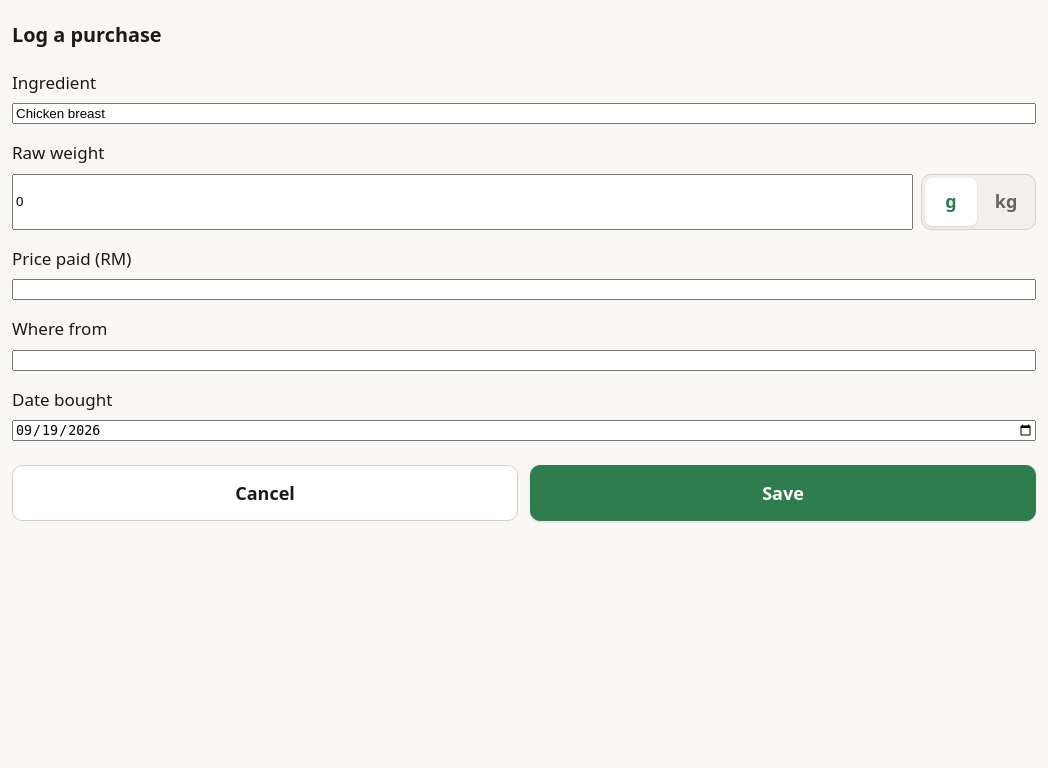
Test: AddBatchForm creating › reports a failed write instead of silently doing nothing
The width and height of the screenshot is (1048, 768).
Replace the text in the number field labelled "Raw weight" with "500" at (462, 202), box [12,174,913,230]
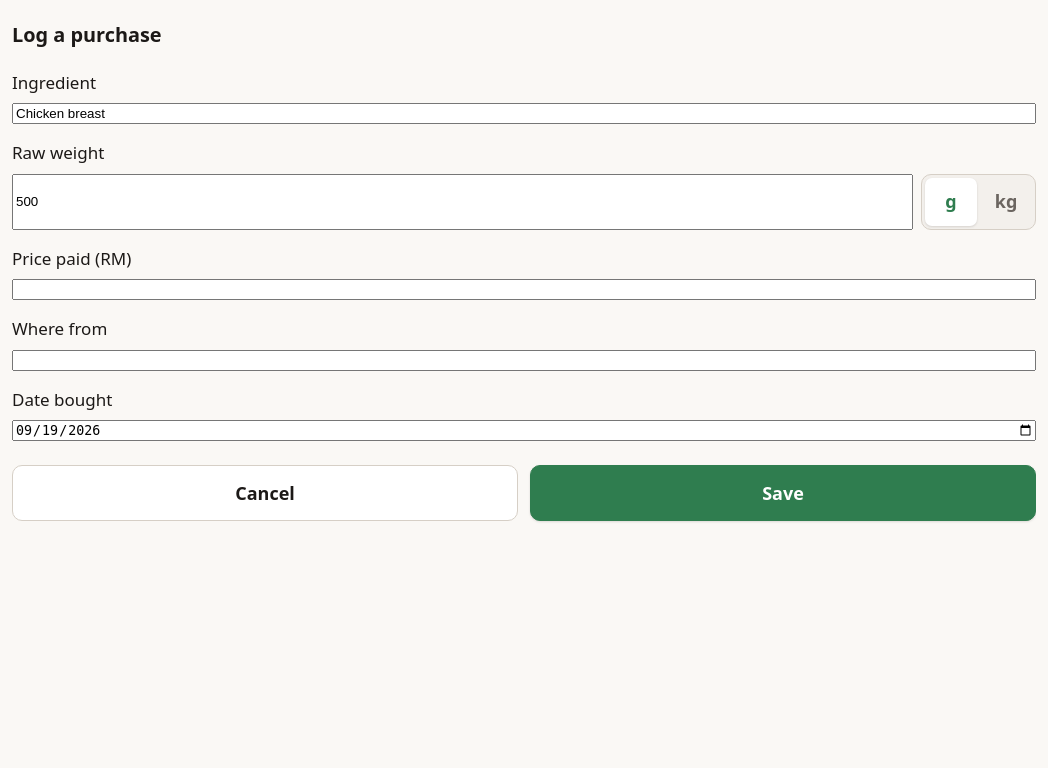
Click the button "Save" at (783, 493), box [530,465,1036,521]
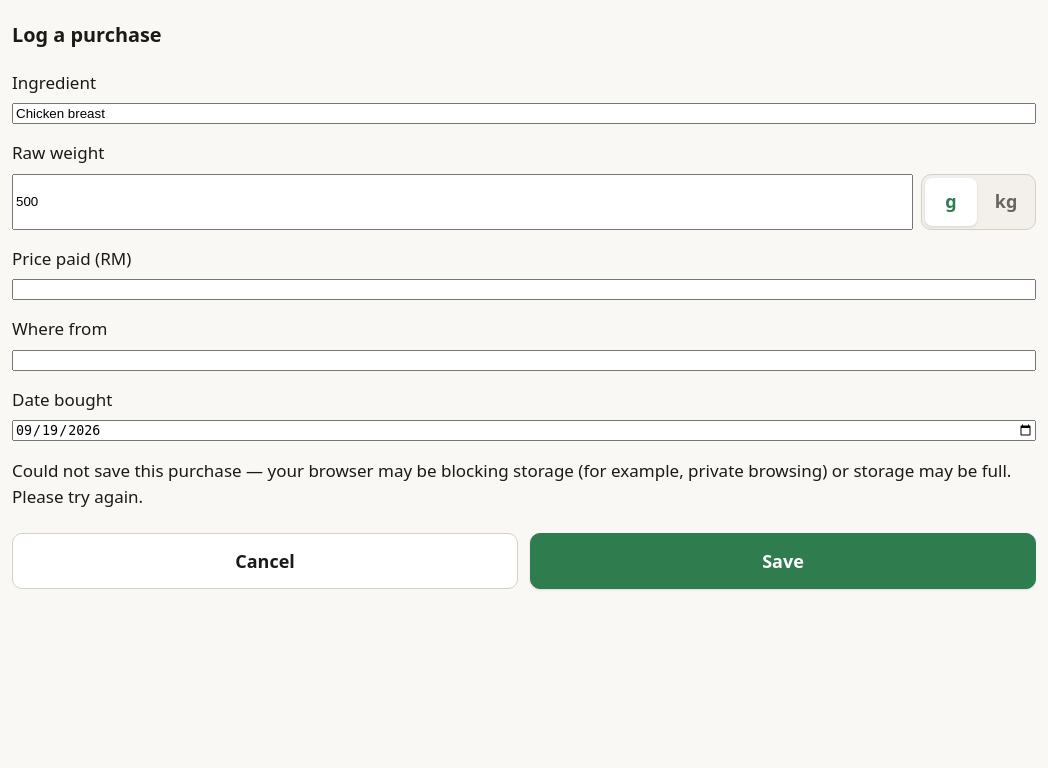
Expected: the message shows "storage", [12,459,1011,508]
